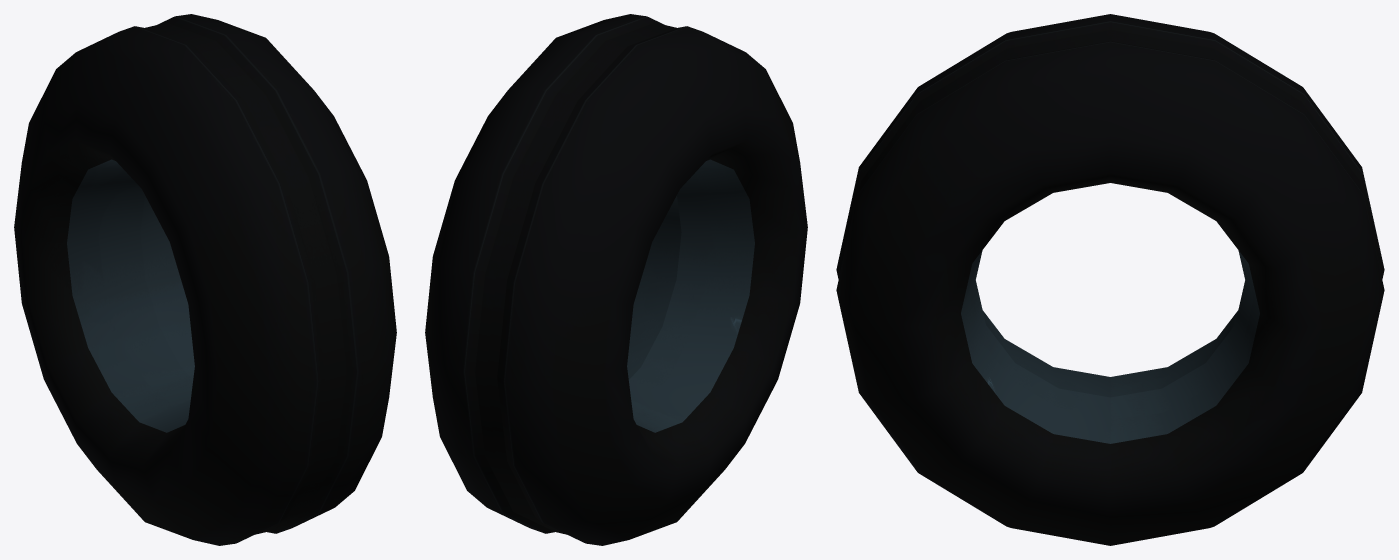
The model's file is WheelFront.fbx.
3 views of the same model, side by side, from view 1: azimuth 30°, elevation 25°; view 2: azimuth 150°, elevation 25°; view 3: azimuth 270°, elevation 25° (orthographic). The views are drawn at different scales.
Visible parts, largest first — view 1: WheelFront; view 2: WheelFront; view 3: WheelFront.
Part boxes in pixels (x1,y1,x2,y2): WheelFront: [14, 14, 396, 545]; WheelFront: [425, 14, 807, 545]; WheelFront: [836, 14, 1384, 545].
Size of the model in its own units: 1.97 by 4.68 by 4.68.
